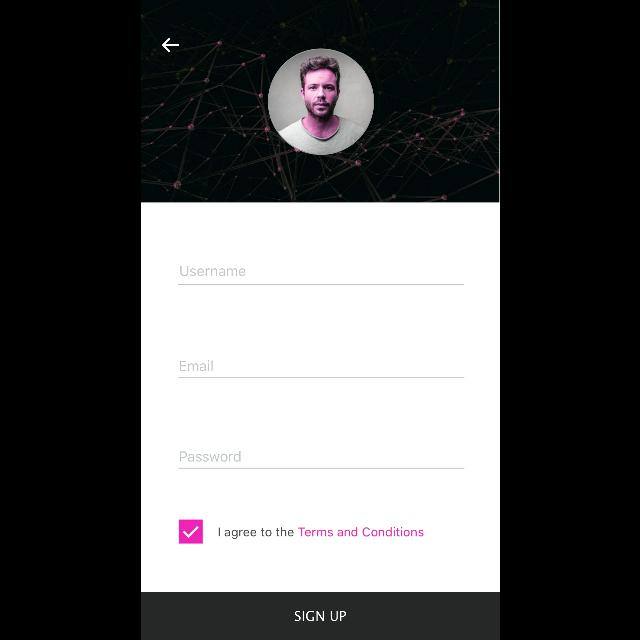checkbox: (178, 520, 202, 542)
icon: (162, 38, 178, 52)
image: (140, 1, 498, 203), (268, 48, 374, 156)
input: (178, 266, 464, 286), (178, 360, 464, 378), (178, 451, 464, 469)
text: (218, 527, 424, 539)
textbutton: (140, 592, 500, 640)
